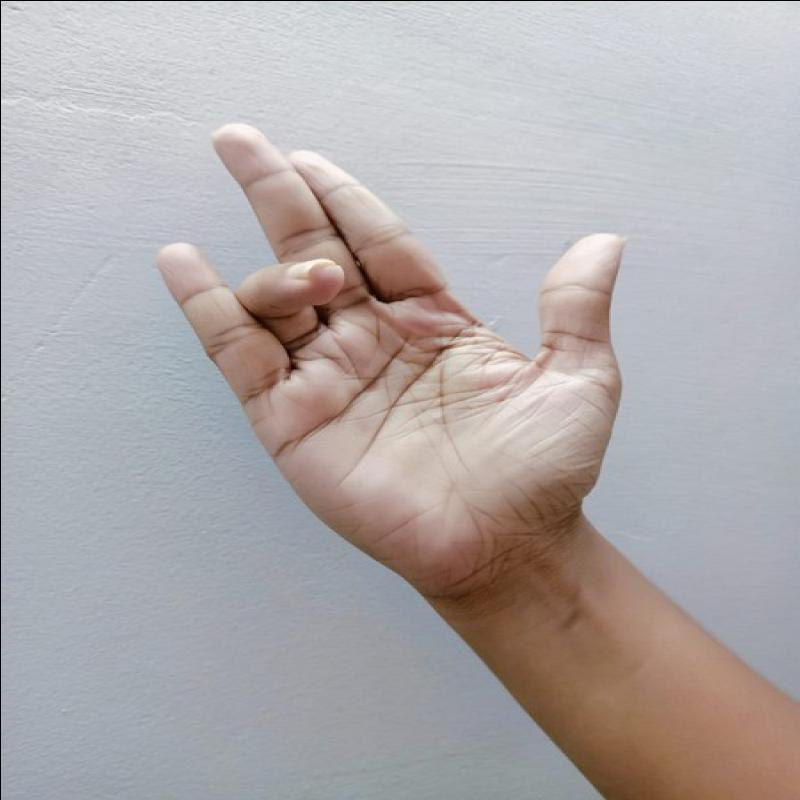Pathaaka: (152, 109, 629, 581)
